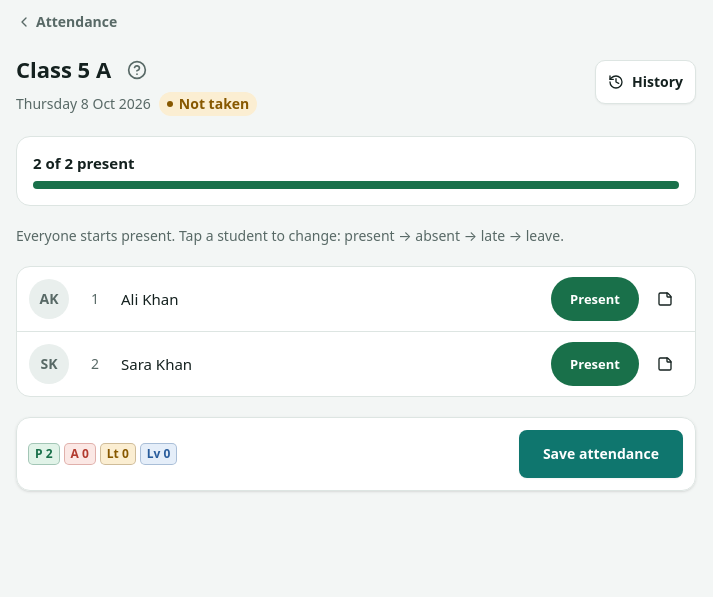
Test: register screen › online save shows how many absence messages were queued
The image size is (713, 597).
What coordinates should you click on to do the following:
click the button "Save attendance"
I would click on:
 (601, 454)
Its box is [519,430,683,478].
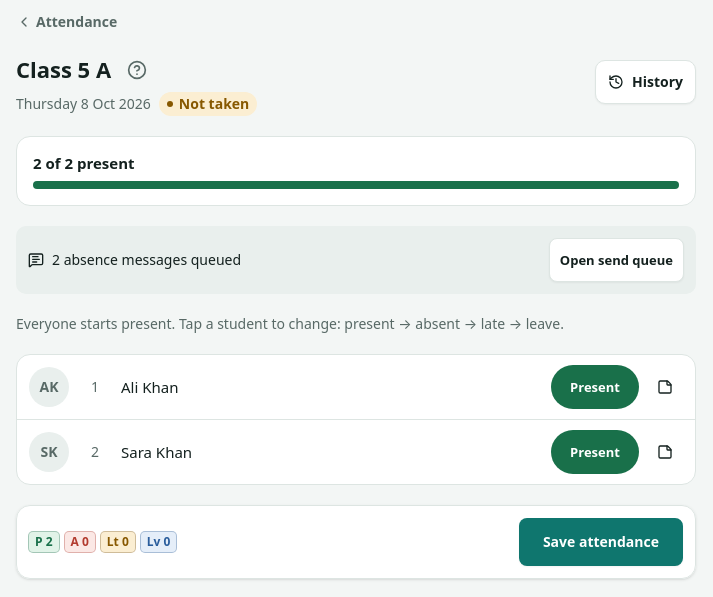
Expected: the text "2 absence messages queued" is shown, [52,250,241,269]
Expected: the link "Open send queue" is shown, [549,238,684,282]
